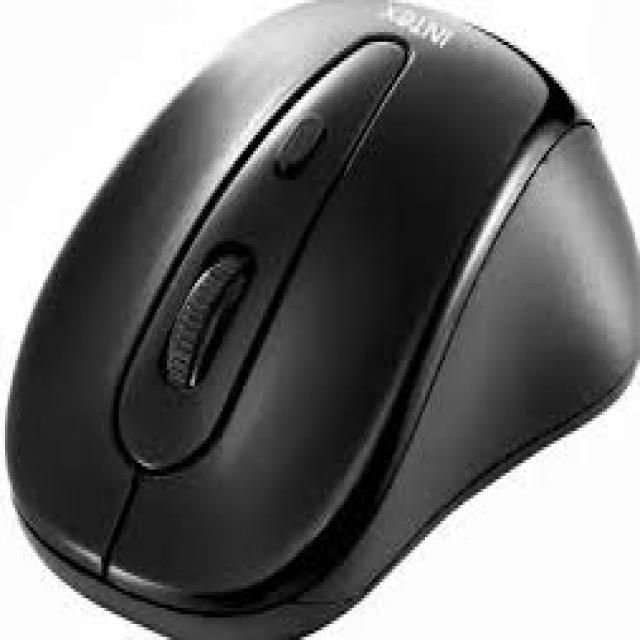others: (5, 3, 640, 637)
